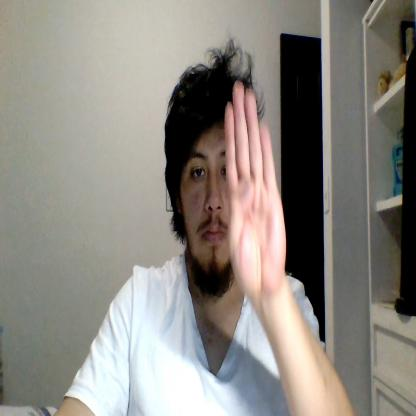B: (224, 80, 286, 294)
